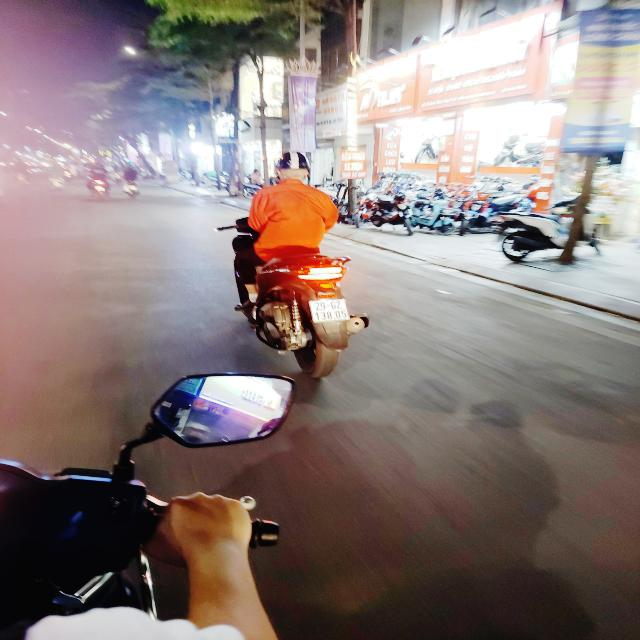license_plate: (307, 296, 355, 326)
